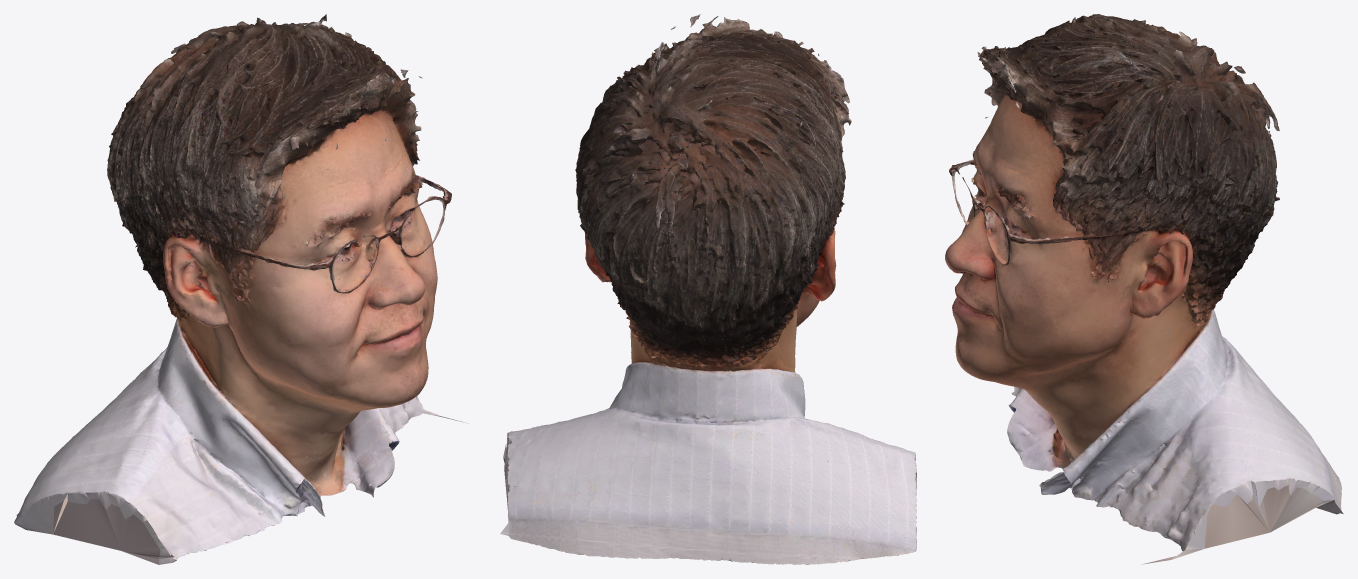
The model's file is 真人头像_男_戴眼镜中年男01_opt.glb.
3 views of the same model, side by side, from view 1: azimuth 30°, elevation 25°; view 2: azimuth 150°, elevation 25°; view 3: azimuth 270°, elevation 25° (orthographic). The views are drawn at different scales.
Visible parts, largest first — view 1: hch_Material_u1_v1, hch_Material_u1_v1_1, hch_Material_u1_v1_2, hch_Material_u1_v1_3; view 2: hch_Material_u1_v1, hch_Material_u1_v1_2, hch_Material_u1_v1_1, hch_Material_u1_v1_3; view 3: hch_Material_u1_v1, hch_Material_u1_v1_2, hch_Material_u1_v1_3, hch_Material_u1_v1_1.
Part boxes in pixels (x1,y1,x2,y2): hch_Material_u1_v1: (14,21,451,564); hch_Material_u1_v1_1: (16,22,467,562); hch_Material_u1_v1_2: (171,14,451,496); hch_Material_u1_v1_3: (191,17,451,497); hch_Material_u1_v1: (500,16,916,564); hch_Material_u1_v1_2: (506,15,710,560); hch_Material_u1_v1_1: (503,17,916,564); hch_Material_u1_v1_3: (504,14,709,559); hch_Material_u1_v1: (945,14,1343,550); hch_Material_u1_v1_2: (983,38,1302,548); hch_Material_u1_v1_3: (978,35,1297,532); hch_Material_u1_v1_1: (948,16,1340,564).
Bounding box in the file's own units: 0.3035 × 0.3 × 0.2436.
Materials: 1 (1 with a texture image).
